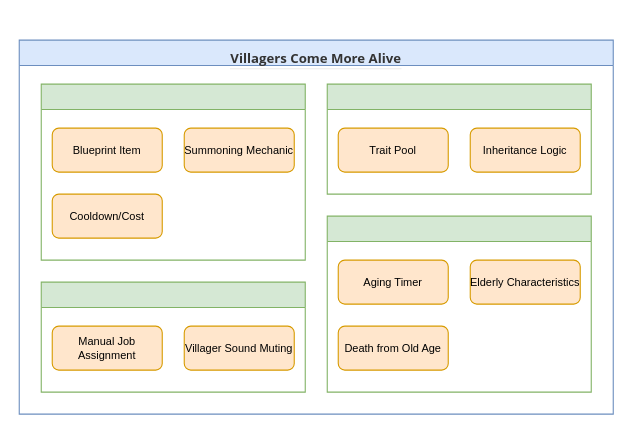
Some shapes in this 633 by 433 pixel diagram are drawn without their labels. The shapes that lost their labels are listed below. From the top down, each one's box as (x1, y1, x2, y2) in pixels, then its label:
(326, 83, 591, 194): Genetics & Inheritance System
(40, 83, 305, 260): Teleportation System
(326, 215, 591, 392): Lifespan & Aging System
(40, 281, 305, 392): Quality of Life & Interaction Tweaks
